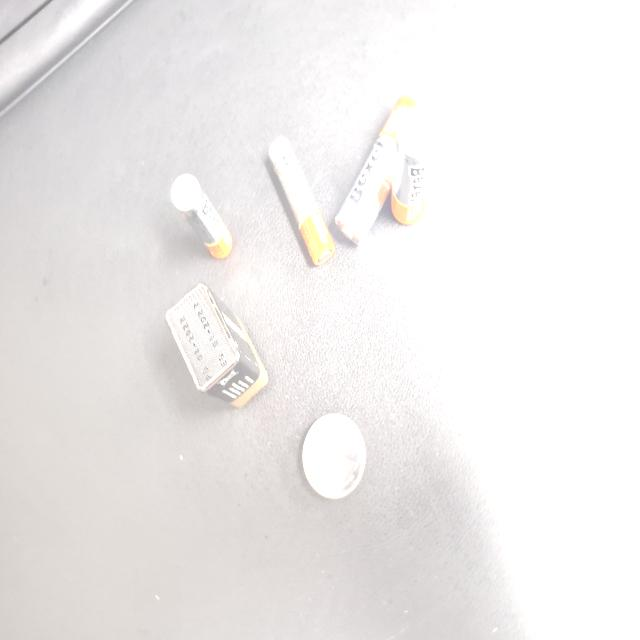9V: (175, 221, 268, 357)
AA: (296, 447, 408, 559), (312, 522, 400, 584)
AAA: (281, 358, 377, 446), (286, 228, 350, 310)
COIN: (106, 404, 170, 488)
